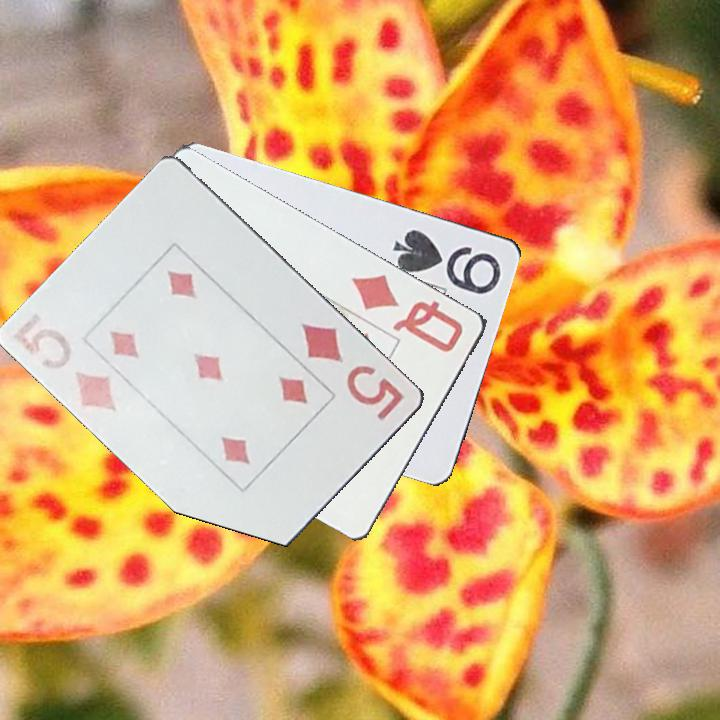5d: (298, 319, 408, 423), (24, 324, 121, 414)
9s: (390, 225, 505, 296)
Qd: (349, 271, 467, 356)
